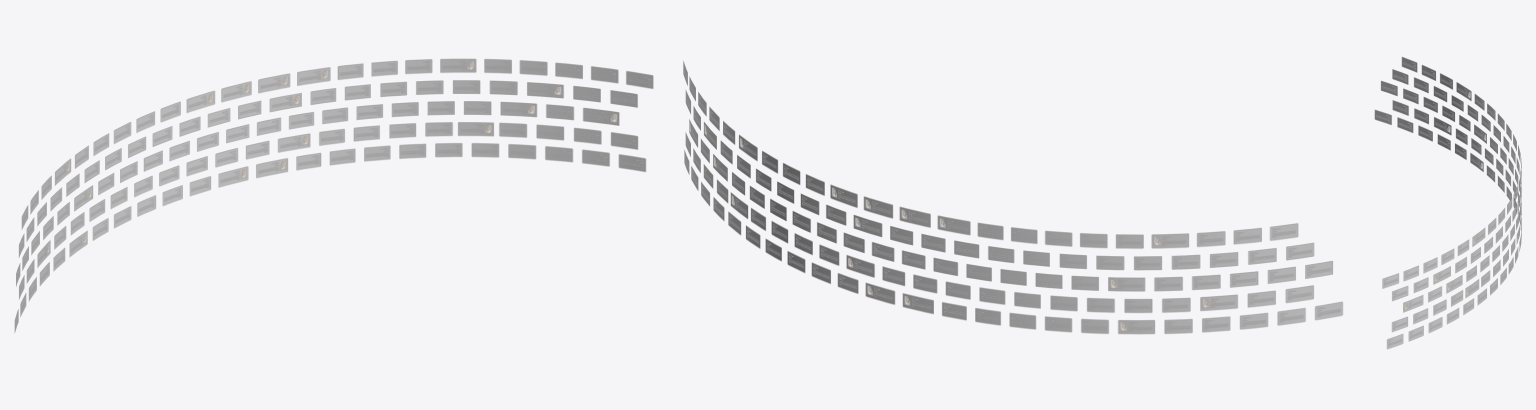
File: OrbitStair_typB_250730.glb
3 views of the same model, side by side, from view 1: azimuth 30°, elevation 25°; view 2: azimuth 150°, elevation 25°; view 3: azimuth 270°, elevation 25° (orthographic). The views are drawn at different scales.
Parts seen in each view (by area): view 1: 02; view 2: 02; view 3: 02.
Boxes of the visible parts, x1=… form: 02: x1=14, y1=59, x2=653, y2=332; 02: x1=683, y1=61, x2=1342, y2=333; 02: x1=1374, y1=57, x2=1521, y2=348.
Size of the model in its own units: 13.28 by 4.01 by 3.58.
2 materials, 1 textured.
